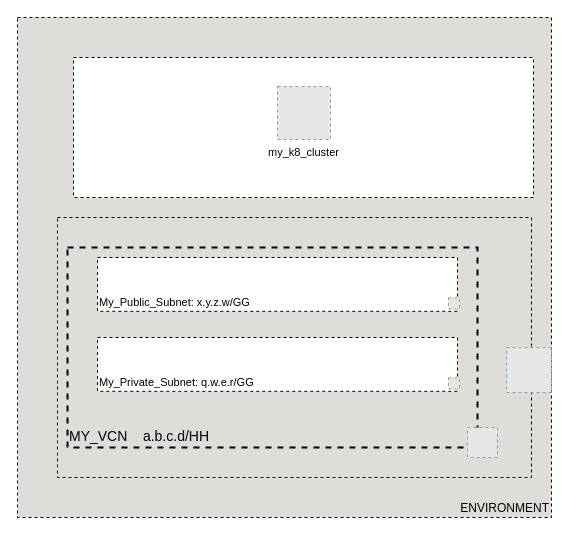
This 569x535 diagram has some shape labels left out. Grey dashed boxes stand in for pictures. Here are the shapes that lost their labels. From the top down, the box of each, then its label:
(72, 56, 534, 198): MY_ARTIFACT_COMPARTMENT
(56, 216, 532, 478): MY_NETWORK_COMPARTMENT
